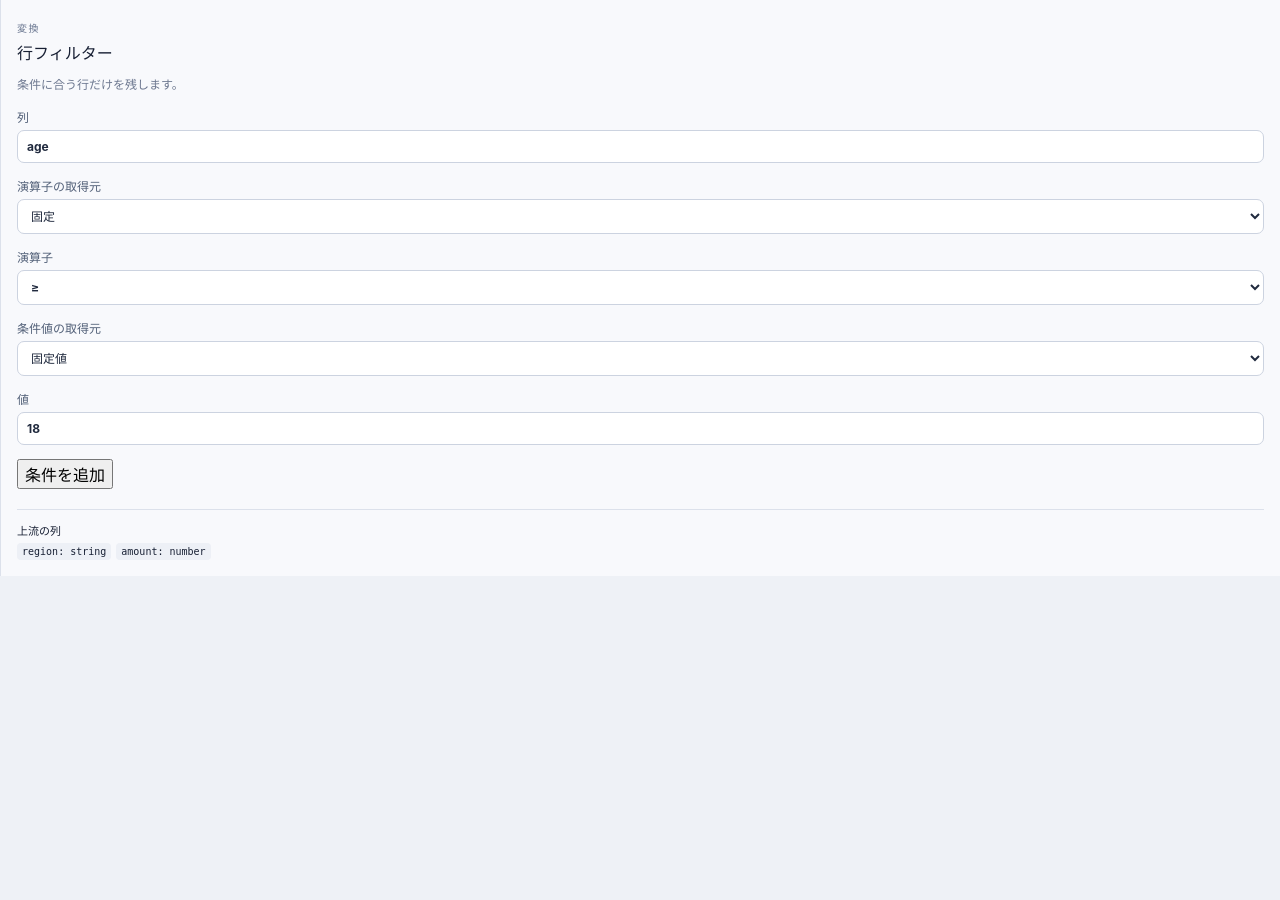
Test: NodeInspector: filter の複数条件 › 日本語UIでは条件見出しとAND/ORを日本語で出す
The image size is (1280, 900).
Click the button "条件を追加" at (65, 474), box 17,459 -> 113,489
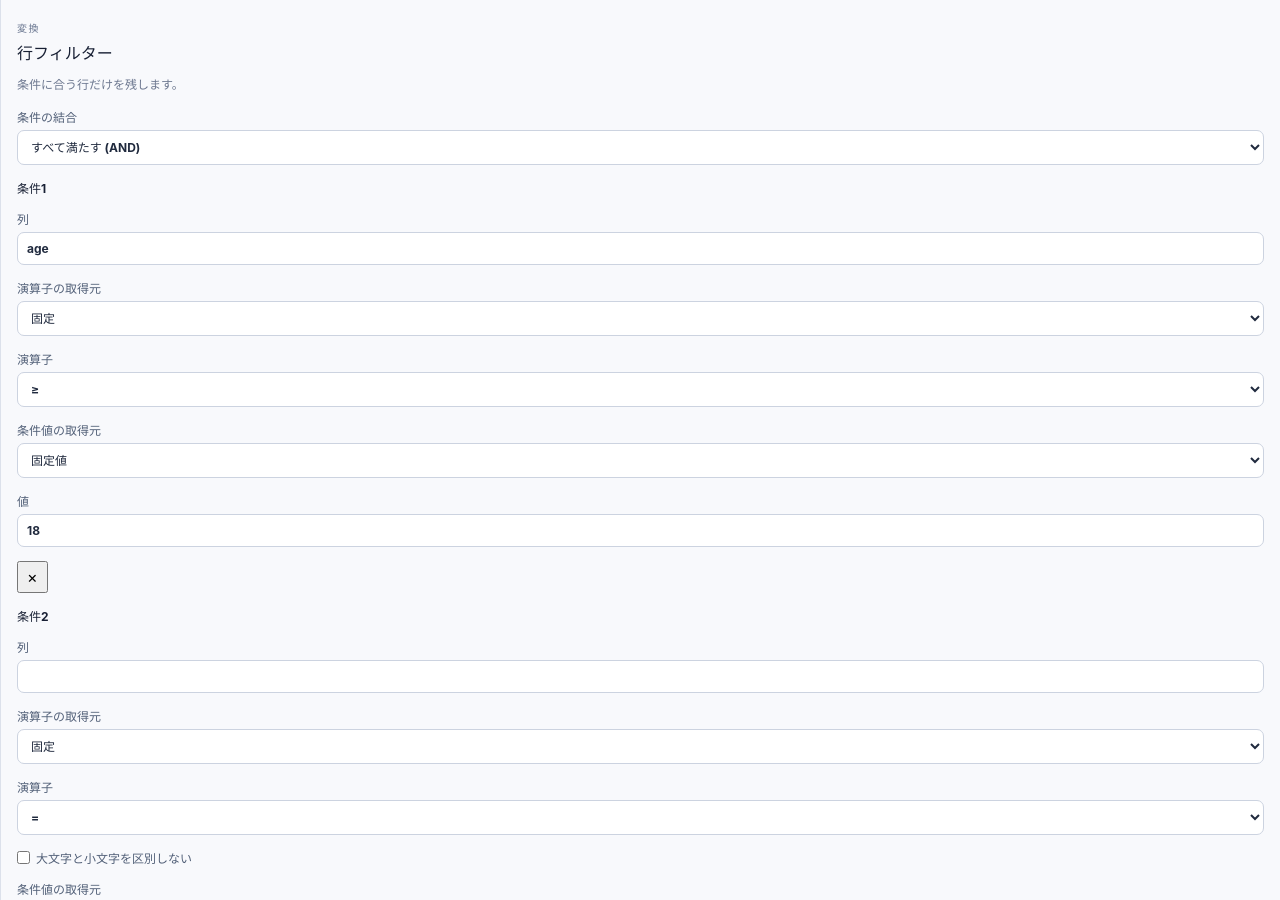
Check: the text "条件1" is shown, box 17,181 -> 46,196
Check: the dropdown labelled "条件の結合" is shown, box 17,130 -> 1264,165
